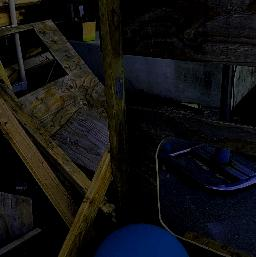algae: (88, 219, 196, 257)
